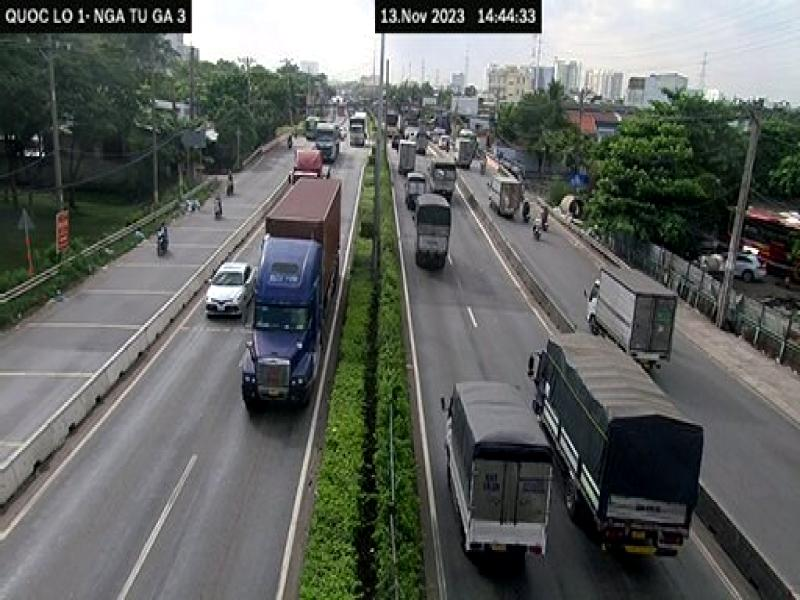truck: (243, 232, 328, 405), (584, 256, 678, 376)
